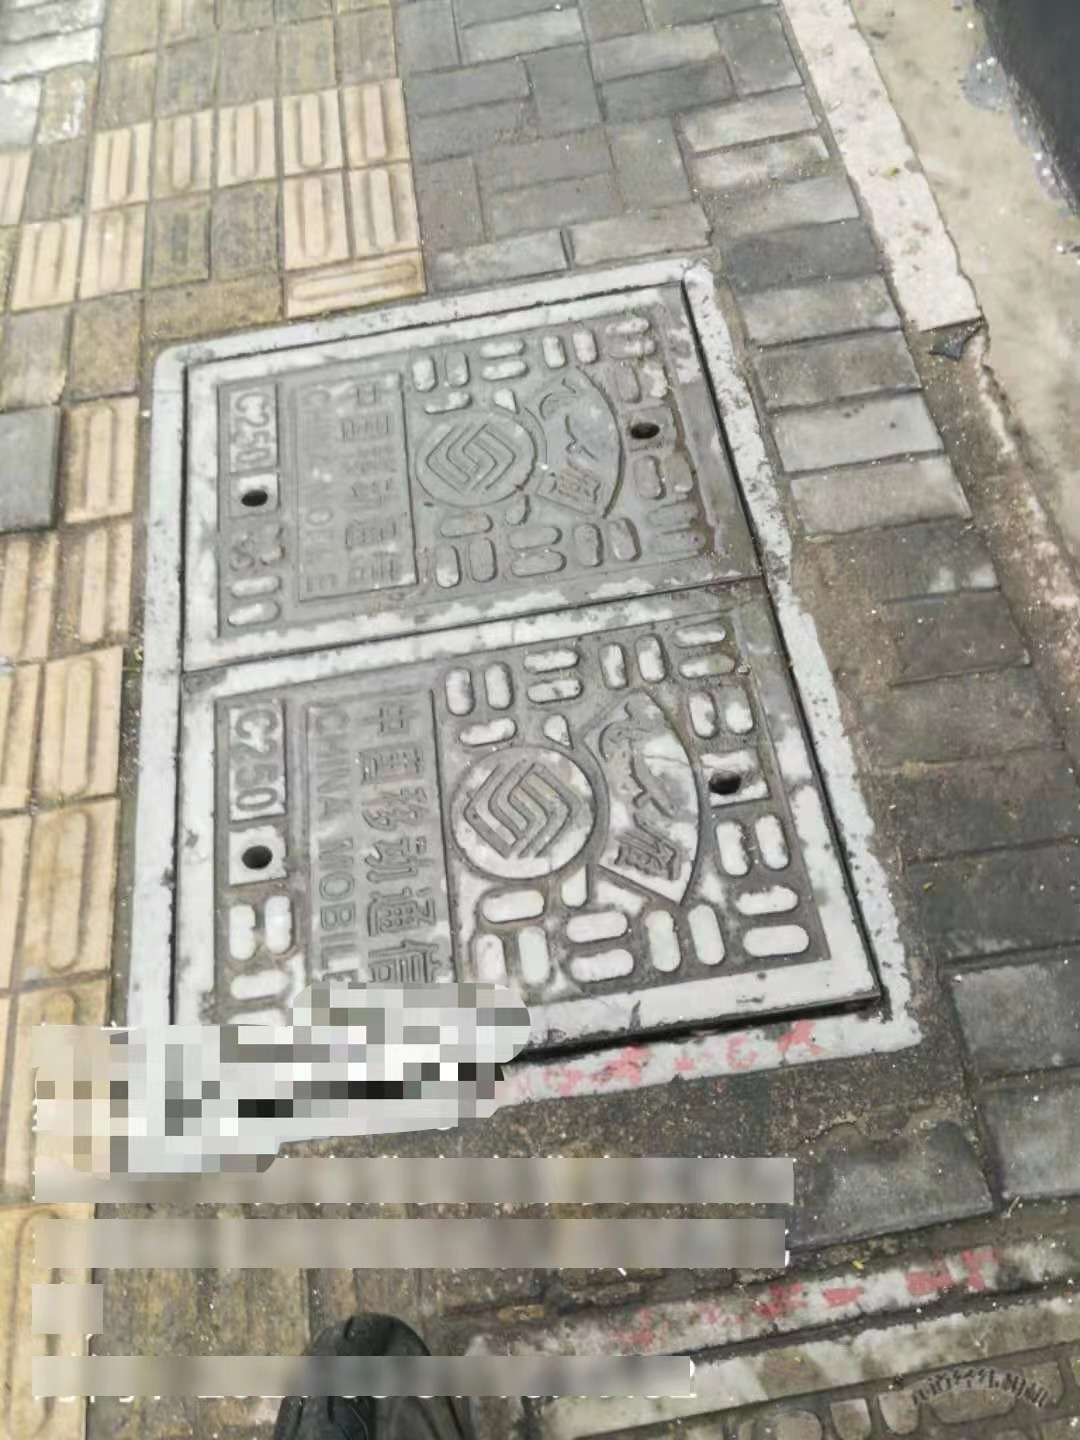well: (103, 260, 922, 1166)
